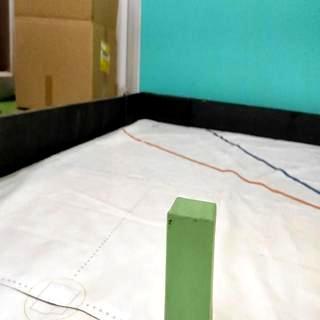greenbox: (164, 195, 218, 320)
